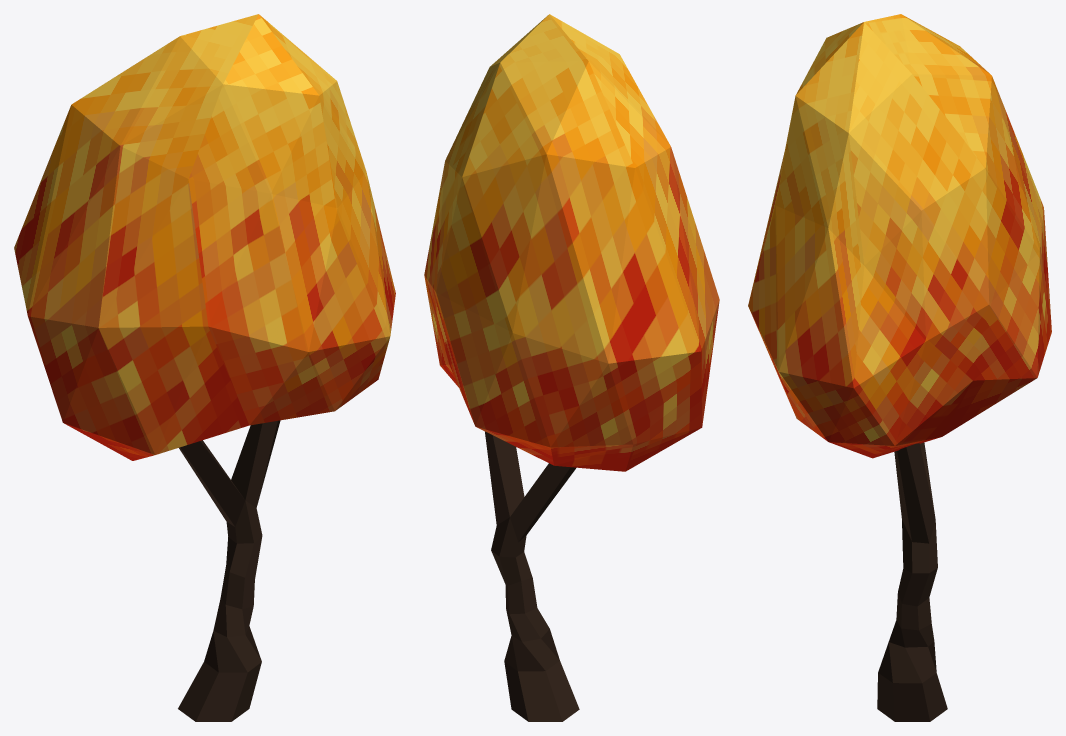
The model's file is tree2org.glb.
3 renders of one model, left to right at view 1: azimuth 30°, elevation 25°; view 2: azimuth 150°, elevation 25°; view 3: azimuth 270°, elevation 25°, orthographic. The views are drawn at different scales.
Parts seen in each view (by area): view 1: Icosphere, Cylinder; view 2: Icosphere, Cylinder; view 3: Icosphere, Cylinder.
Part boxes in pixels (left/top/right/bottom): Icosphere: left=14, top=14, right=395, bottom=460; Cylinder: left=178, top=420, right=280, bottom=721; Icosphere: left=424, top=14, right=719, bottom=471; Cylinder: left=485, top=431, right=579, bottom=721; Icosphere: left=748, top=14, right=1051, bottom=458; Cylinder: left=877, top=442, right=947, bottom=721.
Bounding box in the file's own units: 10.54 × 21.81 × 8.62.
2 materials, 1 textured.
